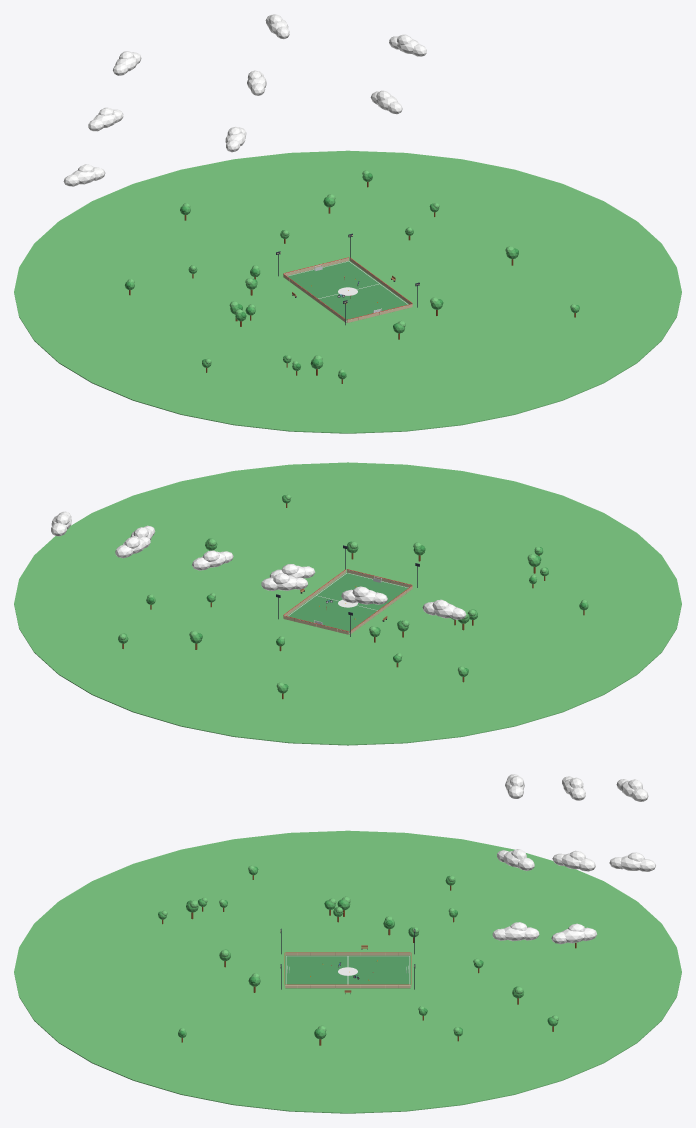
File: BikePolo_World.fbx
The picture shows the model from 3 angles, top to bottom: view 1: azimuth 30°, elevation 25°; view 2: azimuth 150°, elevation 25°; view 3: azimuth 270°, elevation 25°; orthographic projection.
Parts seen in each view (by area): view 1: Ground.001, Court.001; view 2: Ground.001, Court.001, Cloud.003, Cloud.002, Cloud.001, Cloud.005, Cloud.006, Cloud.004; view 3: Ground.001, Court.001, Cloud.007, Cloud.006, Cloud.008, Cloud.005, Cloud.004.
Part boxes in pixels (x1=…): Ground.001: x1=14, y1=150, x2=681, y2=433; Court.001: x1=287, y1=261, x2=408, y2=322; Ground.001: x1=14, y1=462, x2=681, y2=745; Court.001: x1=287, y1=572, x2=408, y2=634; Cloud.003: x1=261, y1=573, x2=307, y2=590; Cloud.002: x1=341, y1=586, x2=387, y2=604; Cloud.001: x1=422, y1=599, x2=466, y2=619; Cloud.005: x1=192, y1=550, x2=233, y2=570; Cloud.006: x1=115, y1=536, x2=150, y2=558; Cloud.004: x1=269, y1=564, x2=315, y2=578; Ground.001: x1=14, y1=830, x2=681, y2=1113; Court.001: x1=285, y1=955, x2=410, y2=984; Cloud.007: x1=492, y1=922, x2=539, y2=941; Cloud.006: x1=609, y1=852, x2=655, y2=871; Cloud.008: x1=551, y1=923, x2=597, y2=944; Cloud.005: x1=552, y1=850, x2=595, y2=871; Cloud.004: x1=497, y1=849, x2=534, y2=870.
Bounding box in the file's own units: 160 × 40.84 × 160.
